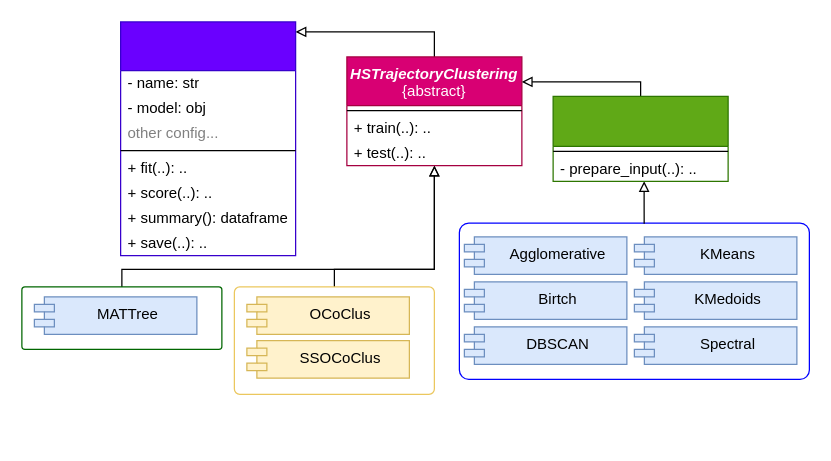
This 831x461 diagram has some shape labels left out. Each missing label, with the box of its shape:
Co-Clustering: (233, 286, 434, 394)
Hierarchical: (21, 286, 222, 349)
Similarity-based: (458, 222, 809, 379)
SimilarityClustering {abstract}: (552, 95, 728, 181)
TrajectoryClustering {abstract}: (119, 21, 296, 256)
